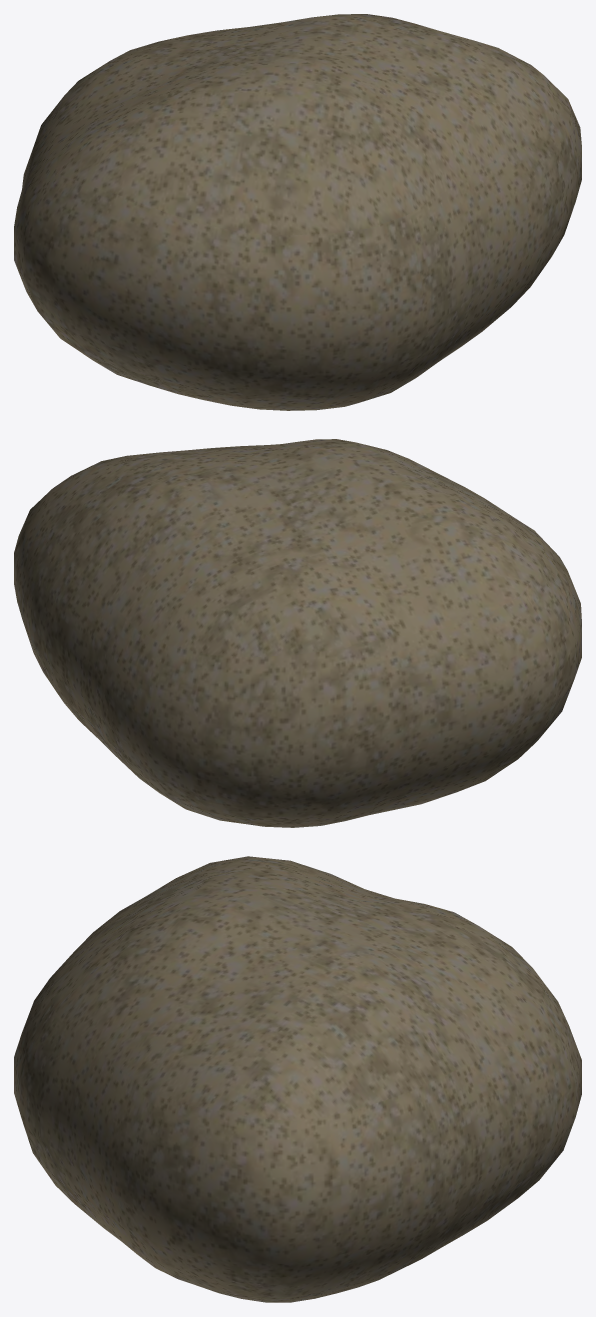
File: plunge_boulder_07.glb
3 renders of one model, top to bottom at view 1: azimuth 30°, elevation 25°; view 2: azimuth 150°, elevation 25°; view 3: azimuth 270°, elevation 25°, orthographic. The views are drawn at different scales.
Visible parts, largest first — view 1: plunge_boulder_07; view 2: plunge_boulder_07; view 3: plunge_boulder_07.
Part boxes in pixels (box(x1,y1,x2,y2)): plunge_boulder_07: box(14, 14, 581, 410); plunge_boulder_07: box(14, 439, 581, 827); plunge_boulder_07: box(14, 856, 581, 1302).
Bounding box in the file's own units: 0.0824 × 0.0474 × 0.0705.
Materials: 1 (1 with a texture image).
